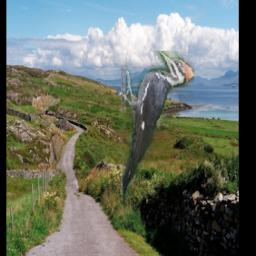Woodpecker: (122, 52, 195, 201)
